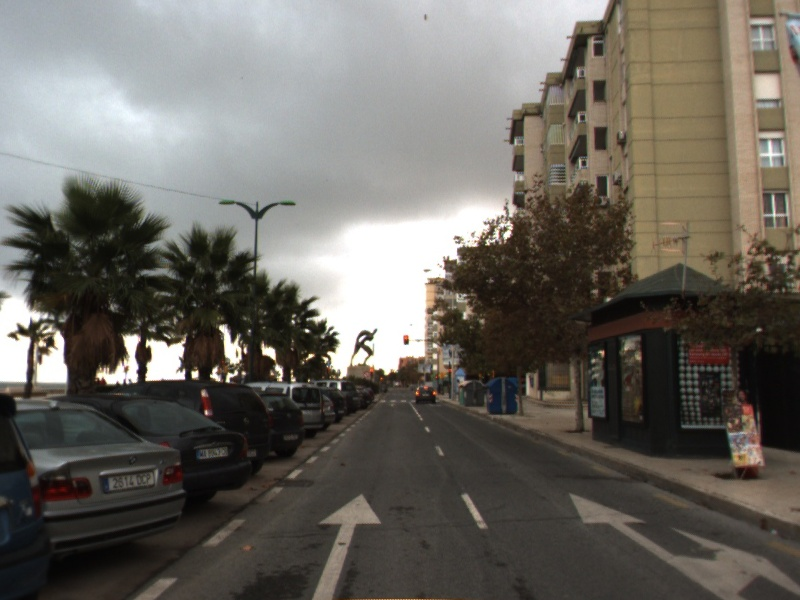STRAIGHT: (311, 491, 383, 600)
STRAIGHT_RIGHT: (567, 491, 800, 600)
